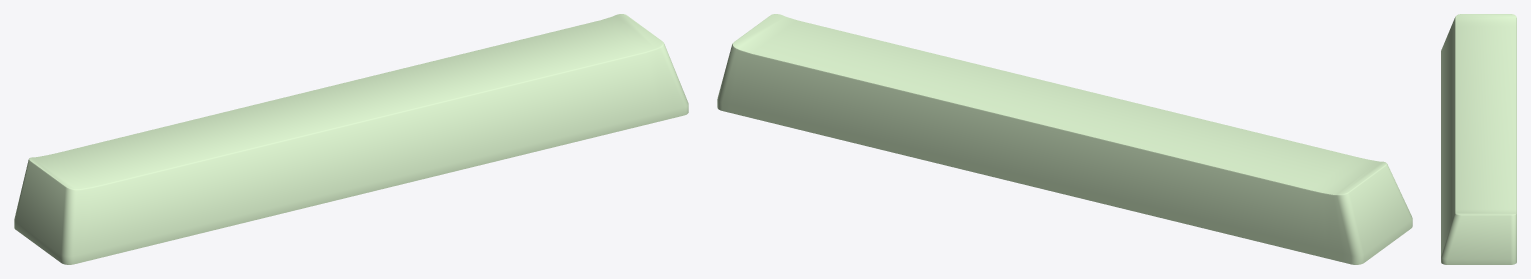
The model's file is space.glb.
3 views of the same model, side by side, from view 1: azimuth 30°, elevation 25°; view 2: azimuth 150°, elevation 25°; view 3: azimuth 270°, elevation 25° (orthographic). The views are drawn at different scales.
Parts seen in each view (by area): view 1: keycap_space.003; view 2: keycap_space.003; view 3: keycap_space.003.
Part boxes in pixels (<box>): keycap_space.003: <box>14,14,688,264</box>; keycap_space.003: <box>717,14,1412,264</box>; keycap_space.003: <box>1441,14,1516,264</box>.
Bounding box in the file's own units: 0.1186 × 0.0118 × 0.018.
